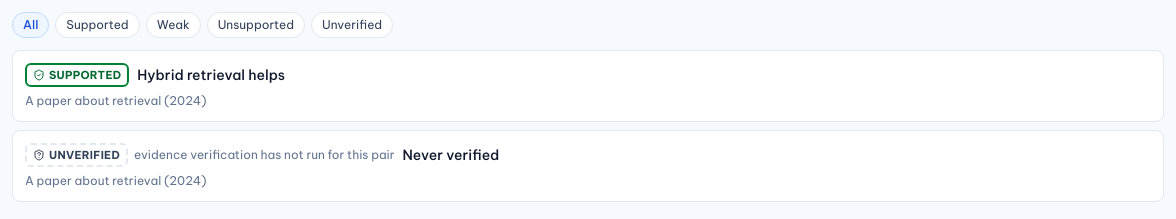
Scenario: the why-this-label page › keeps unverified pairs out of the "Weak" filter and catches them with "Unverified"
Click the button "Weak" at (173, 25), box [146, 12, 201, 38]
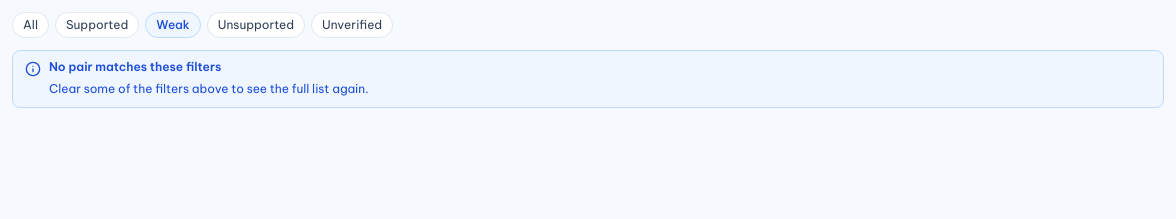
Now the text "No pair matches these filters" is shown, box [49, 59, 221, 74]
Click the button "Unverified" at (352, 25), box [311, 12, 393, 38]
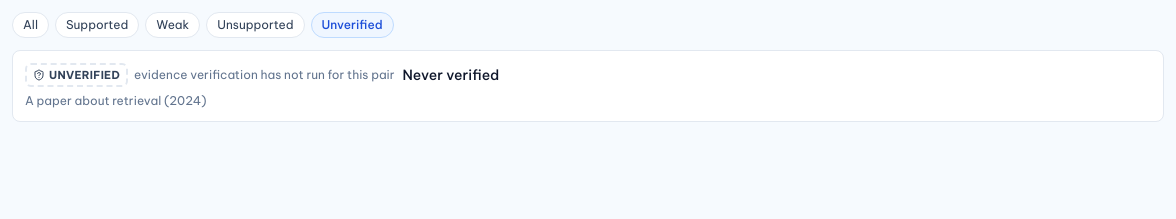
Expected: the button "Hybrid retrieval helps" is not shown
Now the text "Never verified" is shown, box [402, 65, 499, 85]
